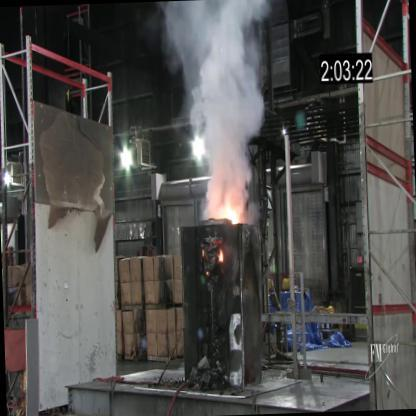fire: (211, 194, 247, 227)
smoke: (164, 0, 272, 185)
